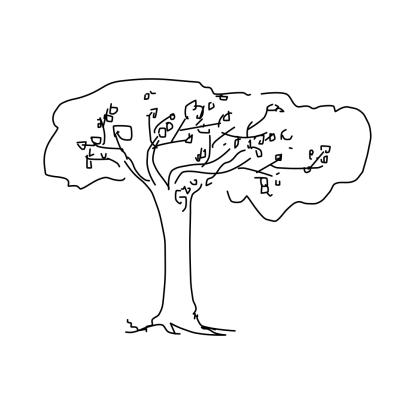branch_cut: (124, 138, 236, 193)
root_upside: (144, 306, 226, 376)
trunk_straight: (156, 209, 194, 294)
